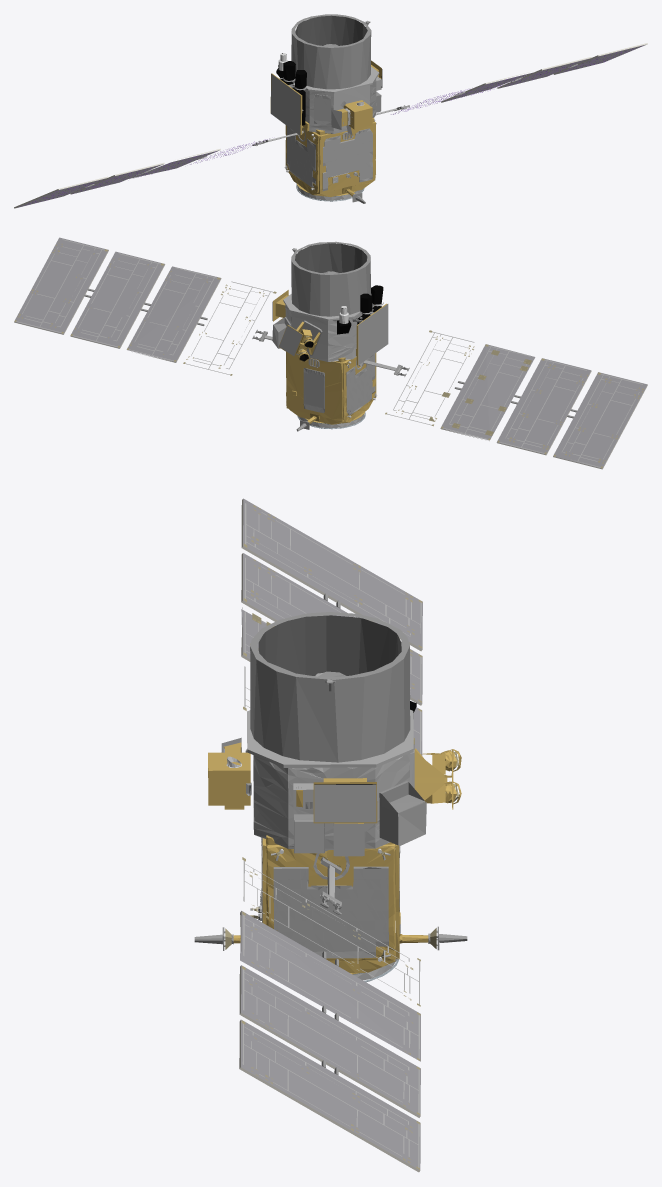
The model's file is calipso.glb.
3 renders of one model, top to bottom at view 1: azimuth 30°, elevation 25°; view 2: azimuth 150°, elevation 25°; view 3: azimuth 270°, elevation 25°, orthographic. The views are drawn at different scales.
Visible parts, largest first — view 1: Mesh _node_5, Mesh _node_19, Mesh _node_7, Mesh _node_16, Mesh _node_1, Mesh _node_18, Mesh _node_3, Mesh _node_17, Mesh _node_14, Mesh _node_4, Mesh _node_2; view 2: Mesh _node_16, Mesh _node_7, Mesh _node_5, Mesh _node_19, Mesh _node_3, Mesh _node_18, Mesh _node_1, Mesh _node_4, Mesh _node_17, Mesh _node_14, Mesh _node_2, Mesh _node (+1 smaller); view 3: Mesh _node_16, Mesh _node_7, Mesh _node_19, Mesh _node_5, Mesh _node_1, Mesh _node_18, Mesh _node_4, Mesh _node_2, Mesh _node_17, Mesh _node, Mesh _node_3.
Part boxes in pixels (<box>): Mesh _node_5: <box>271,20,372,191</box>; Mesh _node_19: <box>291,14,371,89</box>; Mesh _node_7: <box>267,65,397,200</box>; Mesh _node_16: <box>15,44,646,208</box>; Mesh _node_1: <box>285,65,378,197</box>; Mesh _node_18: <box>295,15,367,45</box>; Mesh _node_3: <box>285,122,375,193</box>; Mesh _node_17: <box>14,43,647,208</box>; Mesh _node_14: <box>276,53,382,125</box>; Mesh _node_4: <box>84,21,577,203</box>; Mesh _node_2: <box>270,60,381,196</box>; Mesh _node_16: <box>14,237,647,468</box>; Mesh _node_7: <box>16,239,642,467</box>; Mesh _node_5: <box>272,248,388,414</box>; Mesh _node_19: <box>291,241,370,316</box>; Mesh _node_3: <box>286,352,376,421</box>; Mesh _node_18: <box>295,243,367,272</box>; Mesh _node_1: <box>275,295,376,424</box>; Mesh _node_4: <box>84,249,576,431</box>; Mesh _node_17: <box>14,250,647,469</box>; Mesh _node_14: <box>272,285,383,361</box>; Mesh _node_2: <box>273,290,386,423</box>; Mesh _node: <box>14,243,643,468</box>; Mesh _node_16: <box>240,498,422,1169</box>; Mesh _node_7: <box>242,503,425,1167</box>; Mesh _node_19: <box>250,612,410,762</box>; Mesh _node_5: <box>221,679,426,958</box>; Mesh _node_1: <box>208,742,400,974</box>; Mesh _node_18: <box>258,615,401,675</box>; Mesh _node_4: <box>194,593,467,1075</box>; Mesh _node_2: <box>233,748,461,943</box>; Mesh _node_17: <box>239,499,422,1172</box>; Mesh _node: <box>225,505,459,1169</box>; Mesh _node_3: <box>262,838,399,959</box>.
Size of the model in its own units: 228 by 57.86 by 45.63.
